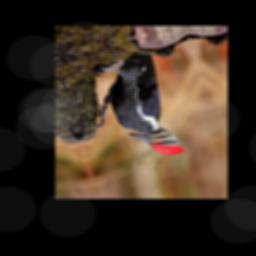Woodpecker: (76, 48, 185, 171)
